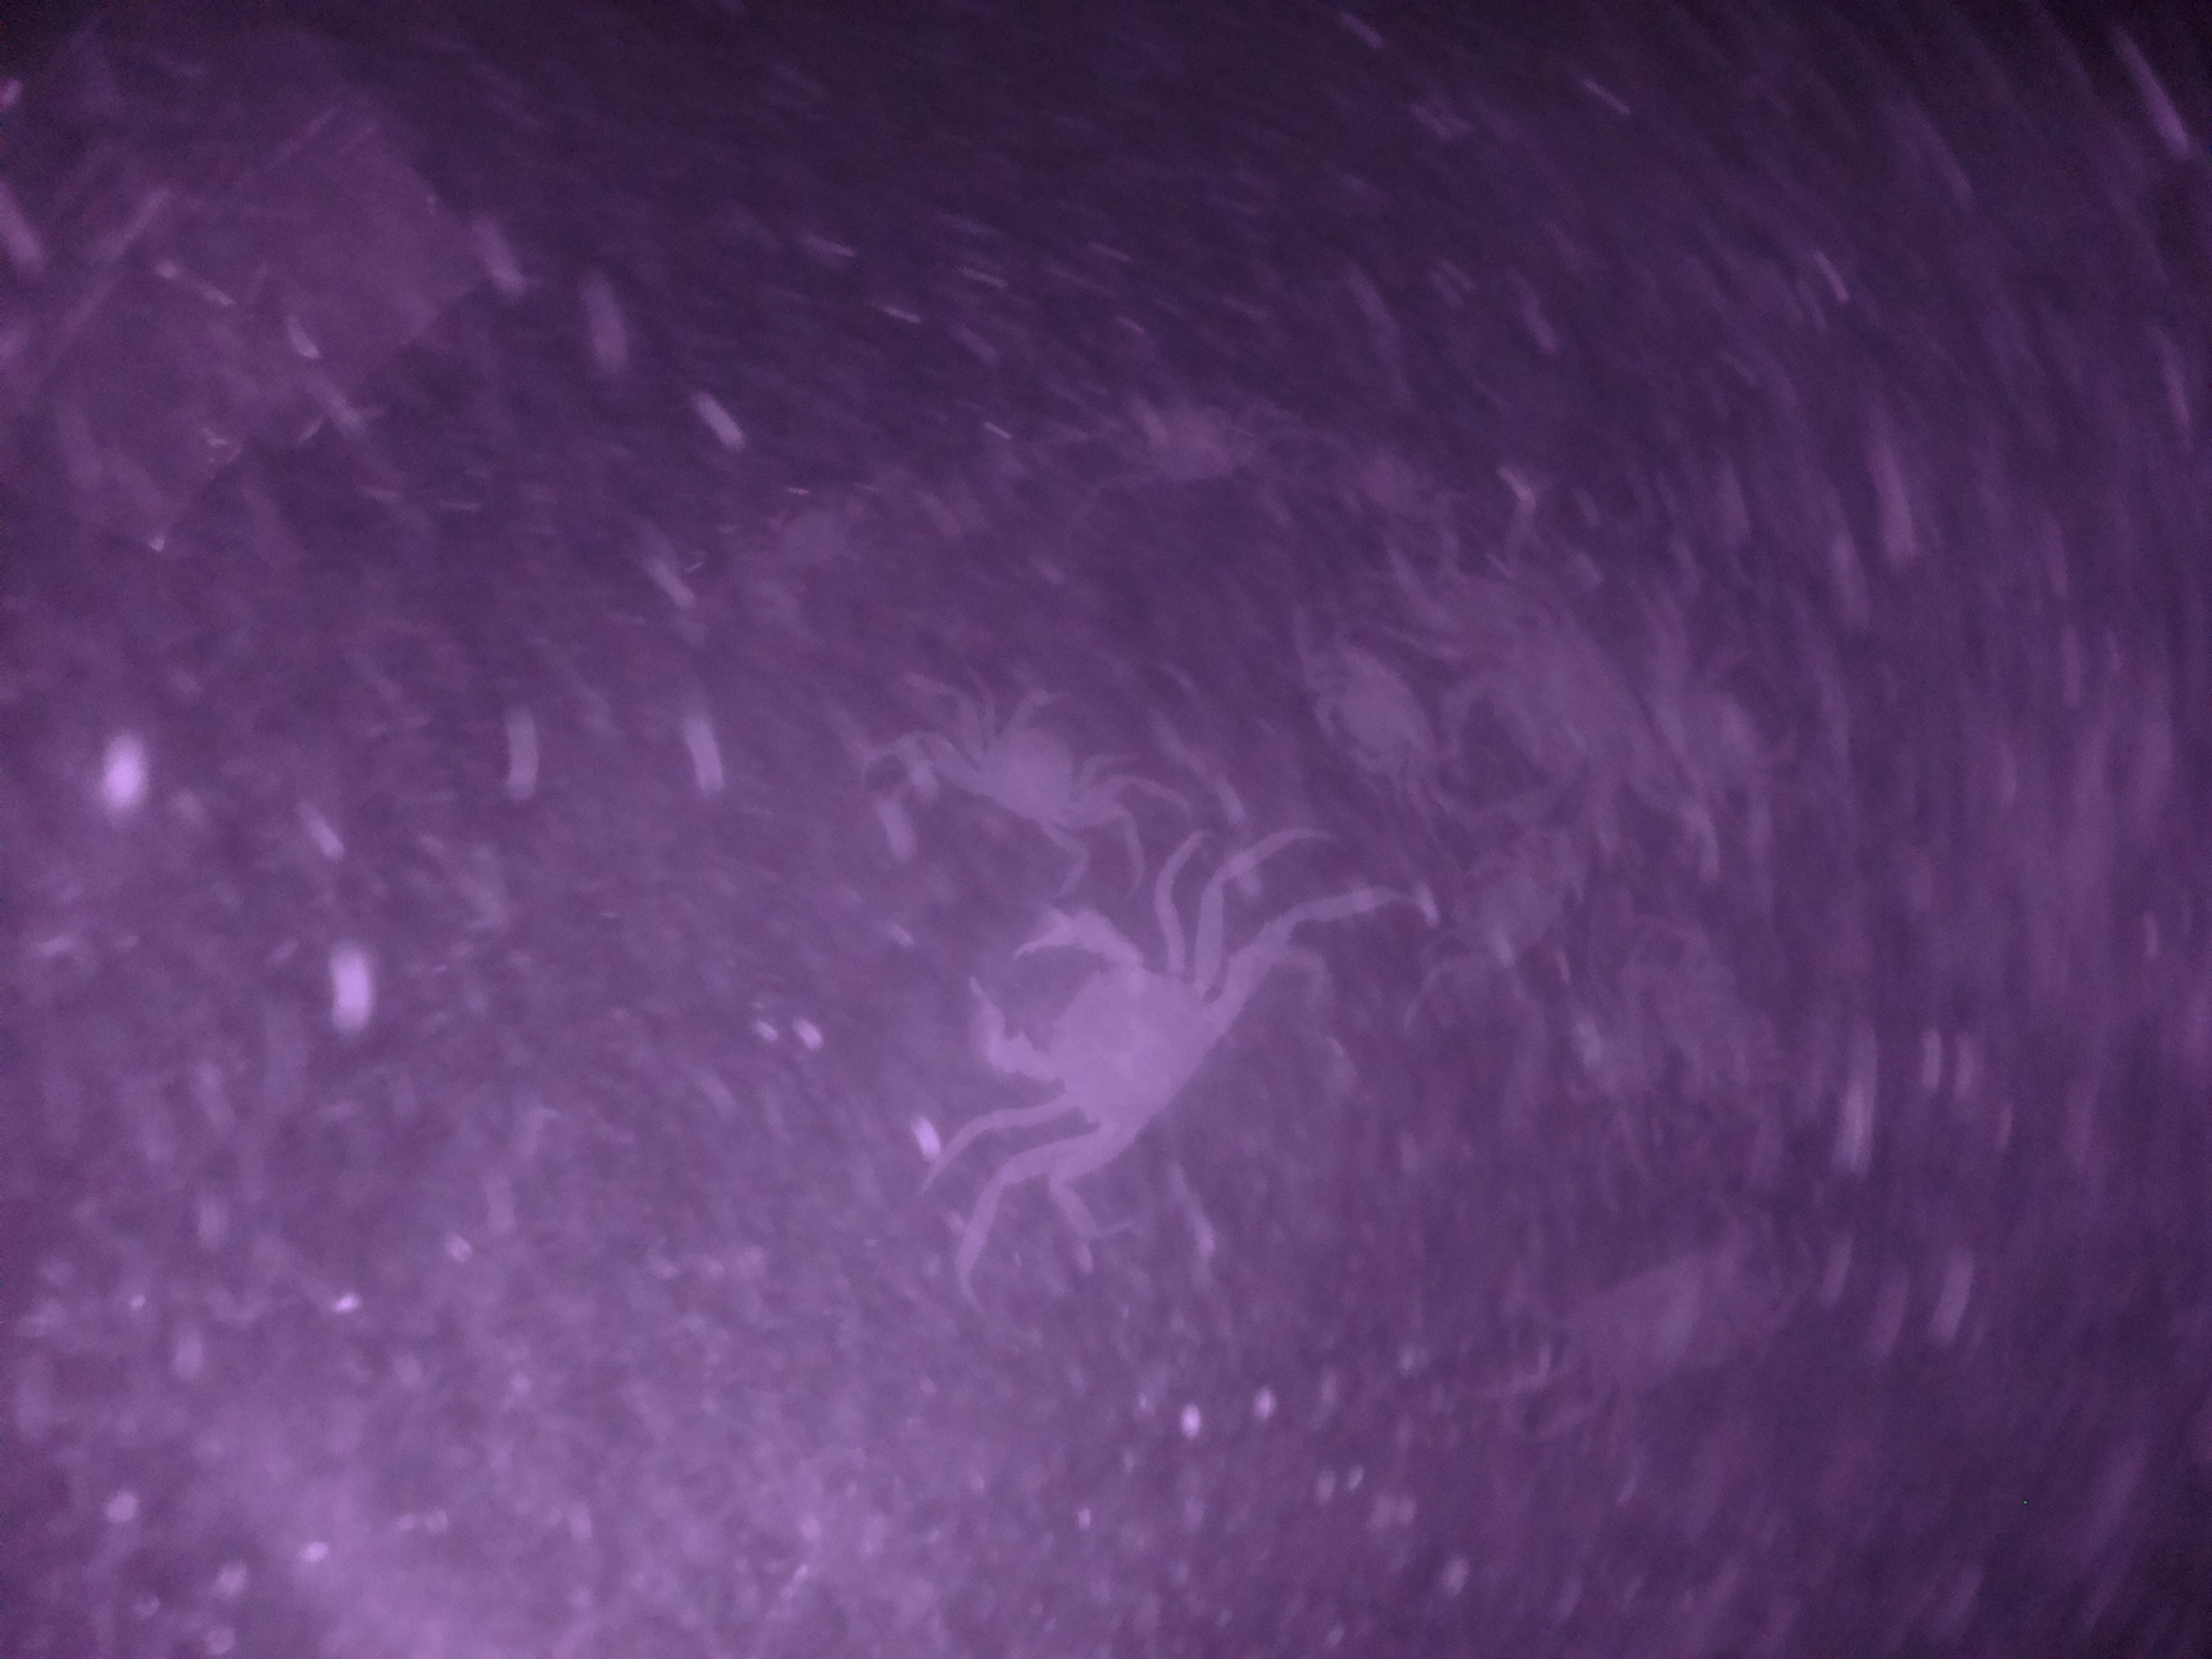Crab: (939, 885, 1256, 1164), (1296, 626, 1449, 817), (961, 673, 1109, 864)
